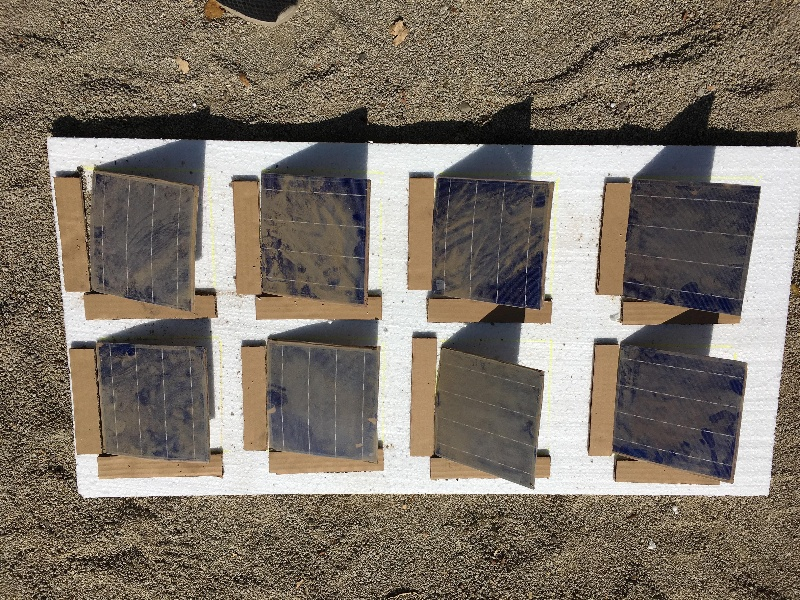dirty: (622, 176, 762, 318), (425, 346, 550, 492), (613, 344, 744, 483), (82, 170, 203, 317), (255, 340, 383, 464), (90, 344, 216, 463), (261, 174, 370, 306), (439, 178, 546, 310)
